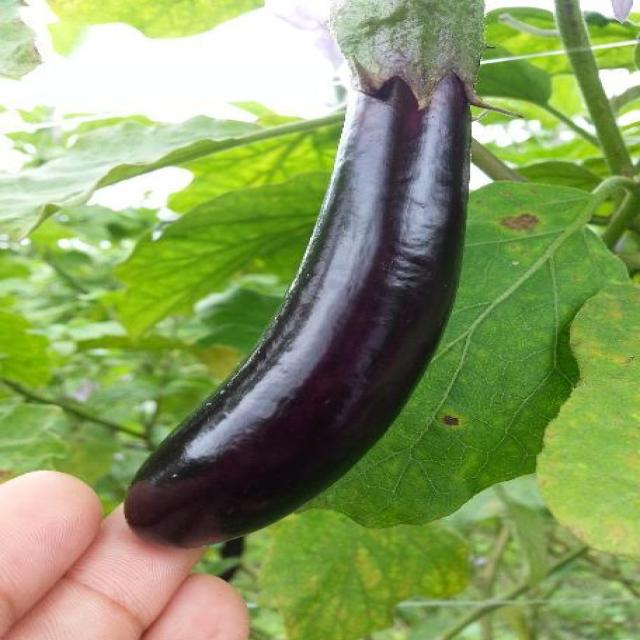eggplant: (109, 0, 486, 558)
